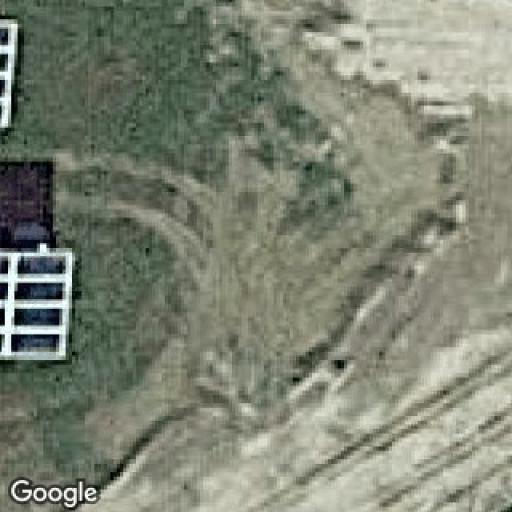solar-panel: (0, 251, 70, 358), (0, 20, 16, 138)
